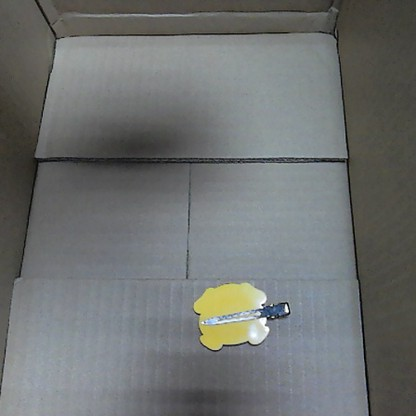dogclip: (190, 277, 289, 350)
